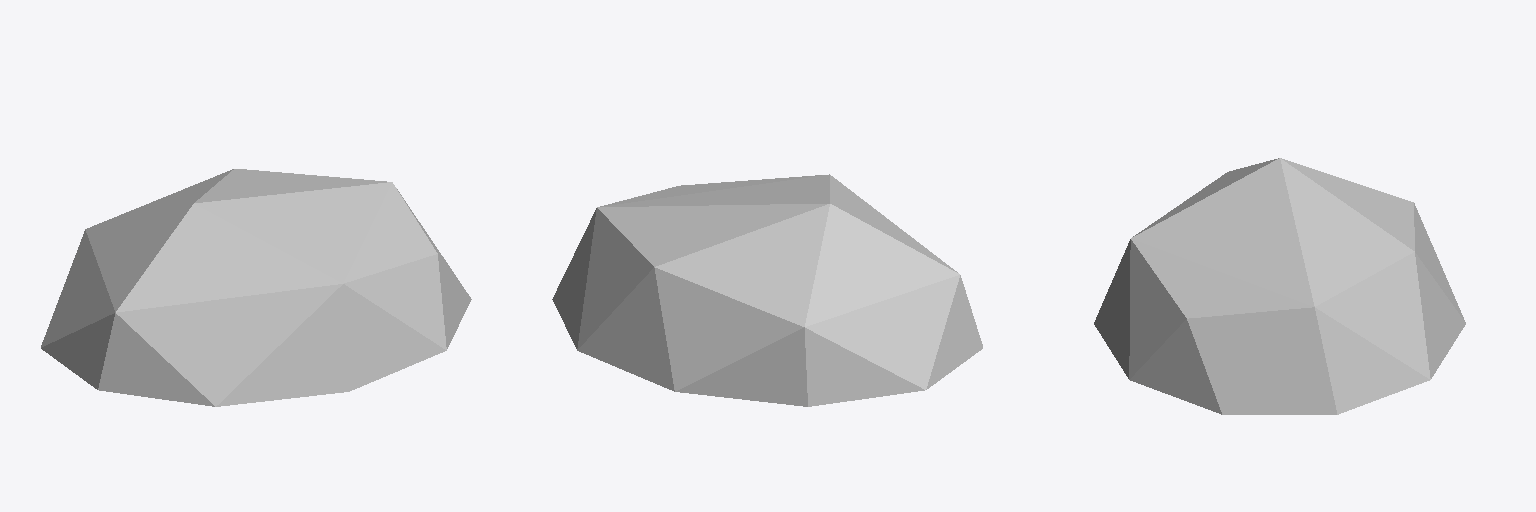
Rendered from Natures_Rock_small.obj.
The picture shows the model from 3 angles: view 1: azimuth 30°, elevation 25°; view 2: azimuth 150°, elevation 25°; view 3: azimuth 270°, elevation 25°; orthographic projection.
Parts seen in each view (by area): view 1: Natures_Rock_small; view 2: Natures_Rock_small; view 3: Natures_Rock_small.
Part boxes in pixels (x1,y1,x2,y2): Natures_Rock_small: (41, 169, 471, 406); Natures_Rock_small: (552, 174, 982, 406); Natures_Rock_small: (1094, 158, 1465, 414).
Size of the model in its own units: 53.35 by 18.47 by 46.06.